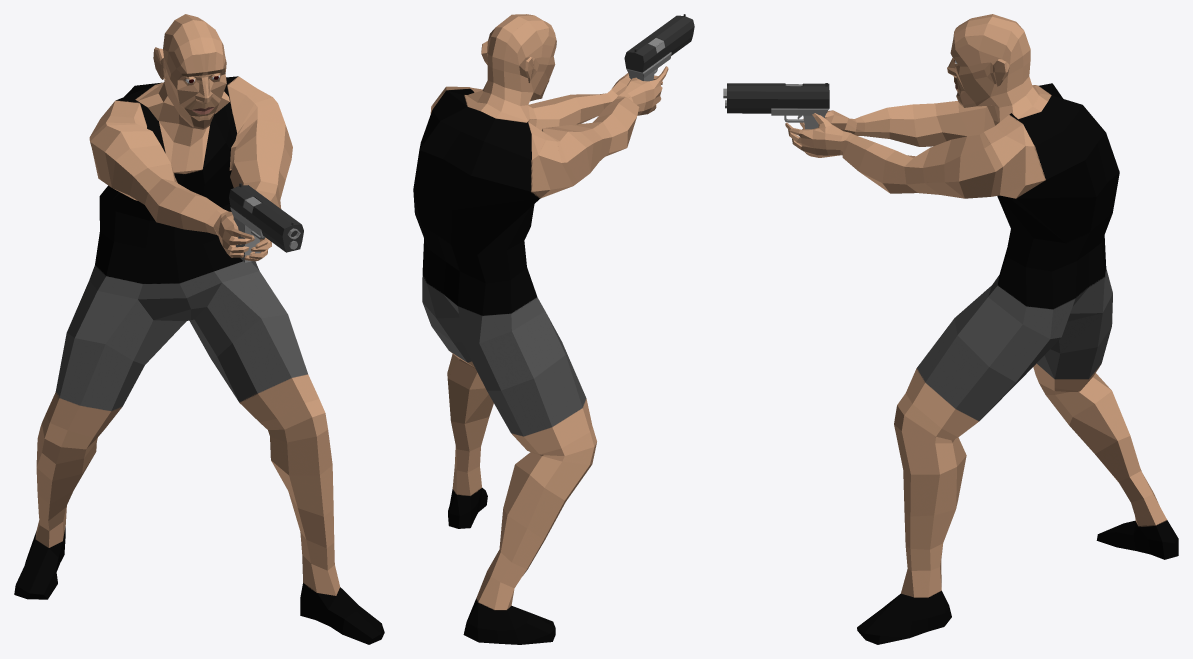
The model's file is PlayerShoot(33).obj.
3 renders of one model, left to right at view 1: azimuth 30°, elevation 25°; view 2: azimuth 150°, elevation 25°; view 3: azimuth 270°, elevation 25°, orthographic. The views are drawn at different scales.
Parts seen in each view (by area): view 1: Plane002, Box003; view 2: Plane002, Box003; view 3: Plane002, Box003.
Part boxes in pixels (<box>): Plane002: <box>14,14,384,644</box>; Box003: <box>229,183,303,262</box>; Plane002: <box>413,14,668,644</box>; Box003: <box>624,14,694,81</box>; Plane002: <box>785,14,1178,644</box>; Box003: <box>723,83,829,151</box>.
Bounding box in the file's own units: 716 × 1665 × 1210.
